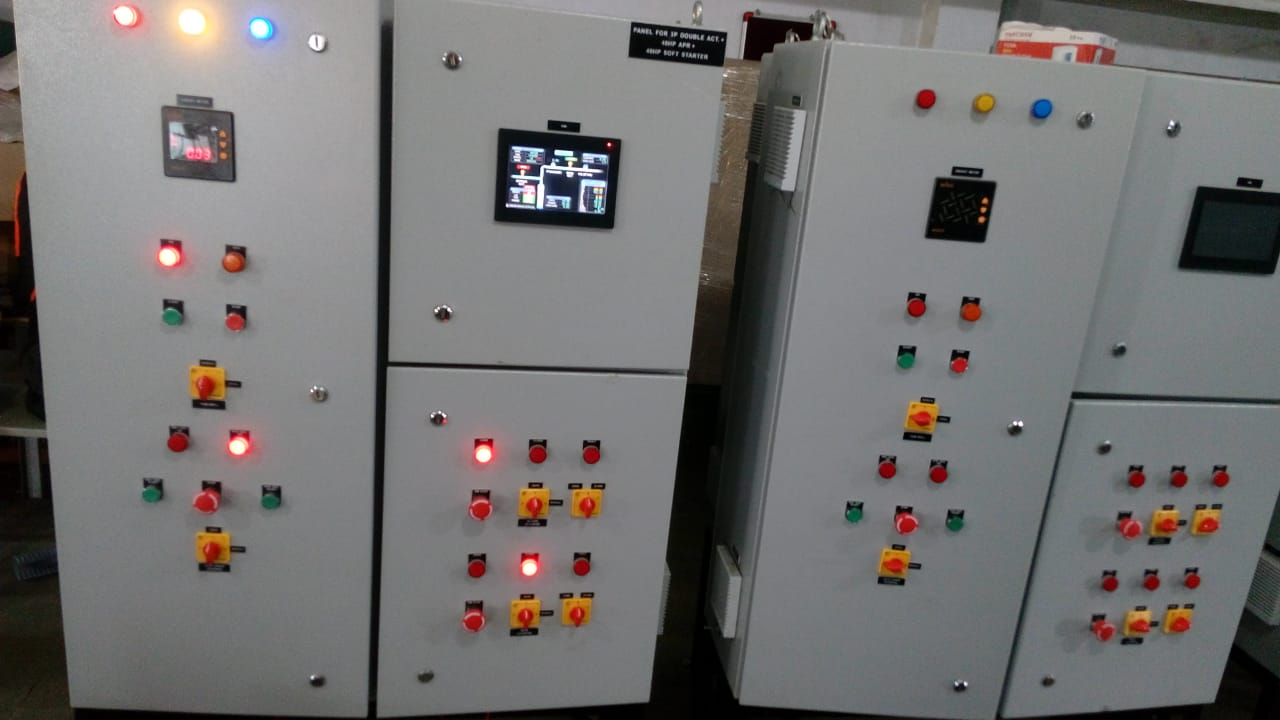Blue_Led_Off: (1021, 92, 1060, 132)
Blue_Led_On: (238, 9, 282, 51)
Green_Led_Off: (934, 498, 980, 549), (150, 292, 200, 337), (129, 470, 177, 513), (833, 493, 877, 535), (252, 478, 296, 518), (889, 340, 926, 376)
Orange_Led_Off: (215, 238, 258, 280), (955, 291, 993, 331)
Red_Led_Off: (155, 411, 206, 465), (571, 431, 624, 473), (216, 295, 263, 340), (942, 342, 982, 387), (897, 285, 938, 325), (457, 548, 499, 587), (920, 453, 964, 490), (908, 80, 944, 123), (1119, 457, 1156, 497), (564, 548, 606, 583), (869, 446, 904, 486), (1206, 459, 1242, 497), (522, 432, 557, 471), (1162, 461, 1199, 497), (1091, 563, 1128, 597), (1176, 563, 1211, 594), (1137, 564, 1166, 599)
Red_Led_On: (148, 232, 194, 277), (462, 431, 508, 472), (219, 425, 266, 465), (103, 2, 148, 37), (511, 548, 550, 584)
Yellow_Led_Off: (966, 86, 1005, 127)
Yellow_Led_On: (170, 5, 213, 44)
